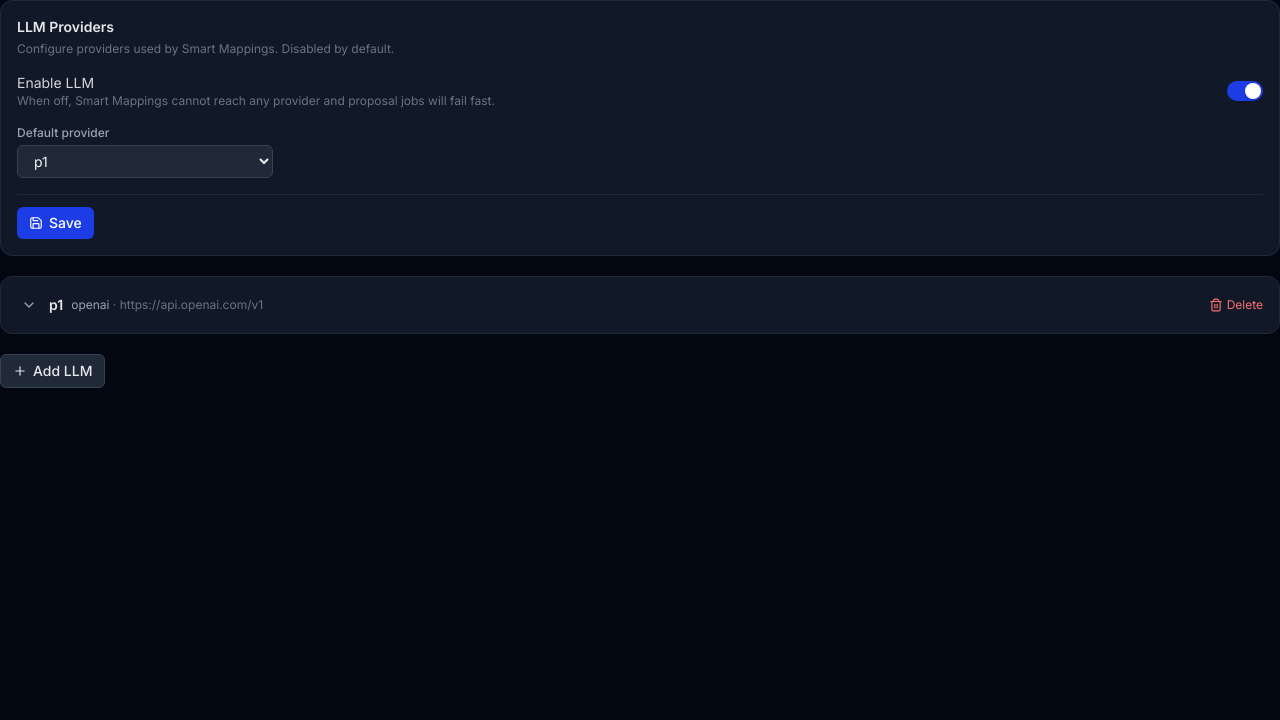
Test case: ProviderCard (027 step 5: Discover-then-Probe per-card surface) › "View test details" opens after a thrown Test connection error (issue_local_02)
Expected: the heading "p1" is shown, [49, 295, 63, 315]
Click the button named "Expand p1" at (29, 305), box [17, 293, 41, 317]
(page scrolled)
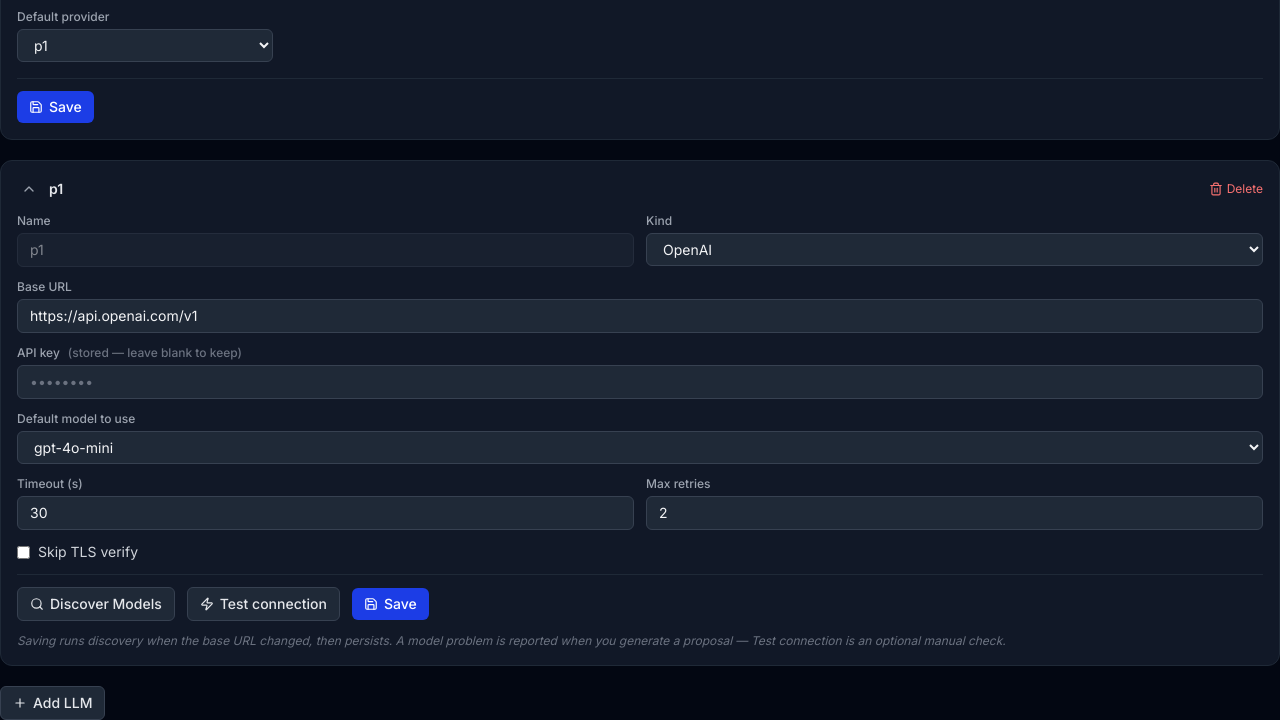
Click the button "Test connection" at (263, 604), box [187, 587, 340, 621]
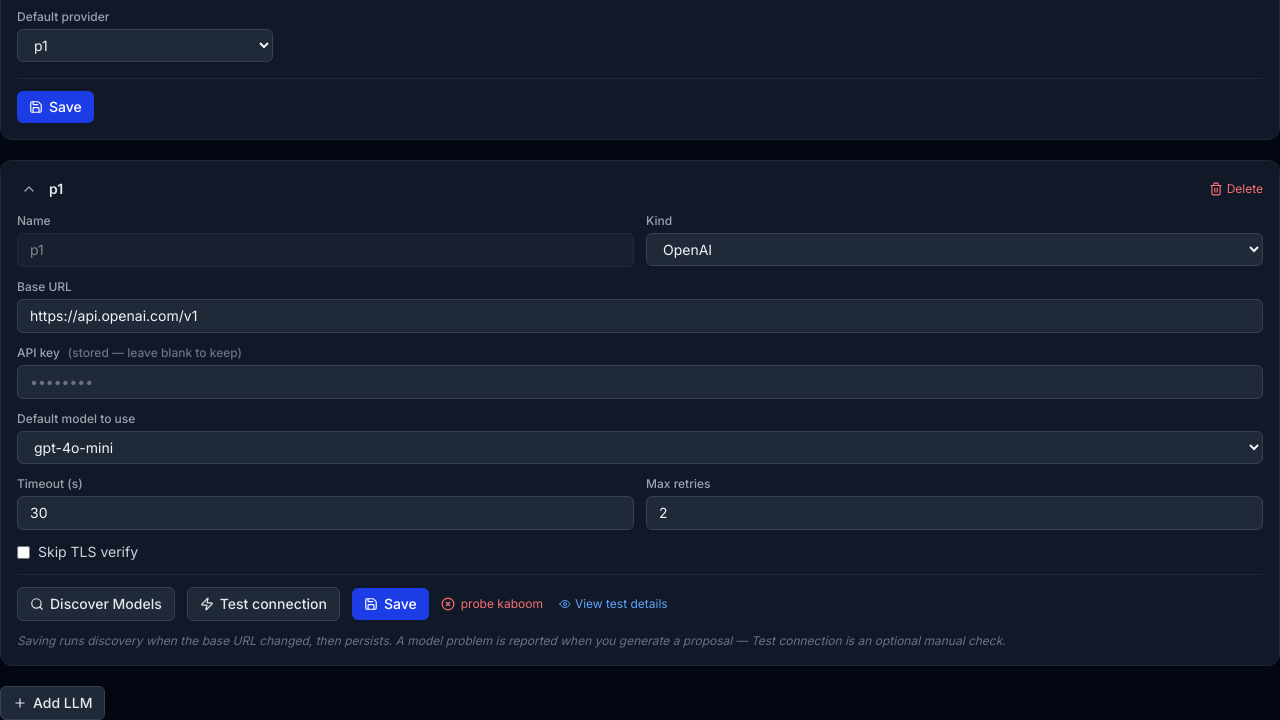
Click the button "View test details" at (613, 604), box [559, 596, 668, 612]
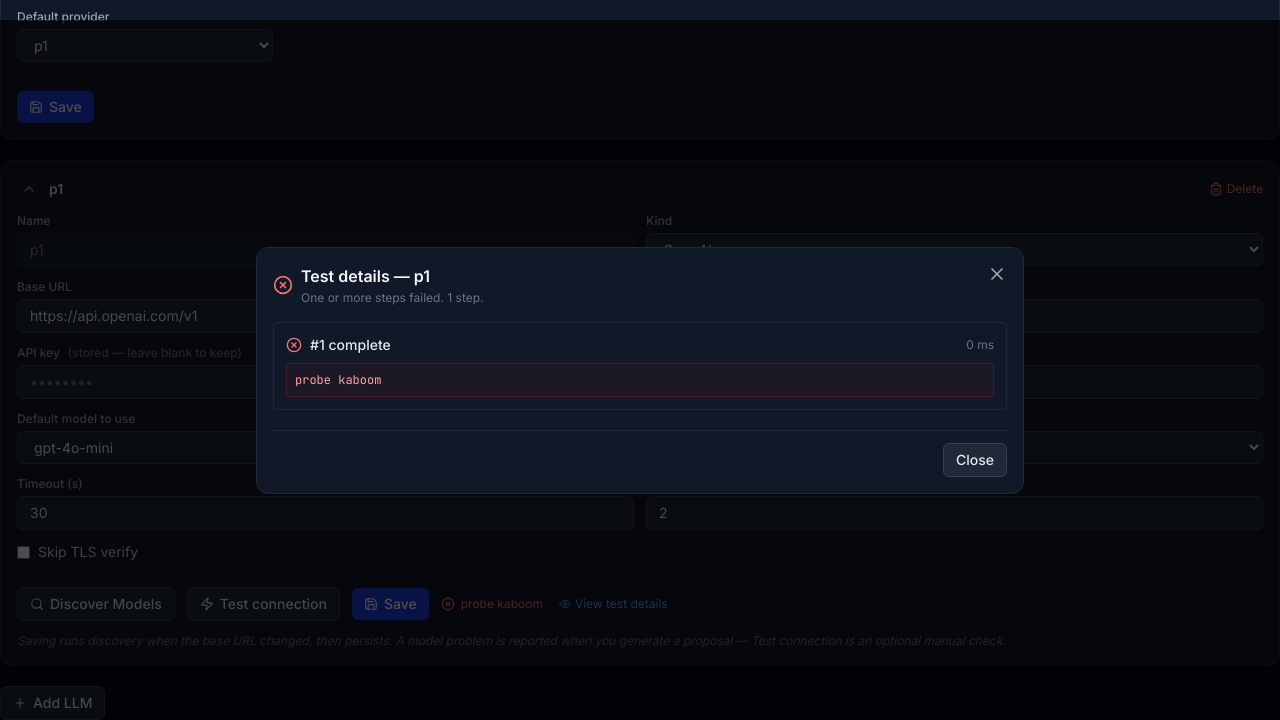
Expected: the text "probe kaboom" is shown, [461, 596, 543, 612]
Expected: the heading "Test details — p1" is shown, [301, 266, 430, 286]
